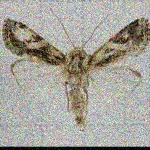Spodoptera litura: (0, 8, 149, 131)
